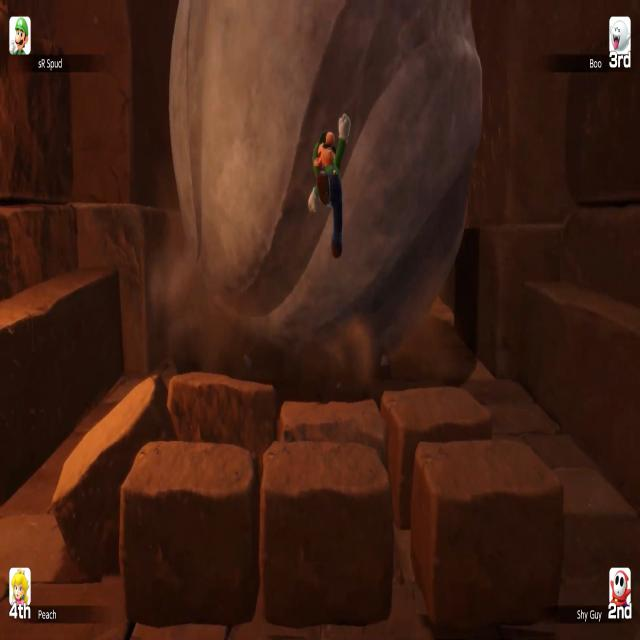Luigi: (309, 112, 351, 258)
obstacle: (412, 441, 563, 626), (120, 440, 260, 627), (51, 374, 180, 572), (261, 439, 393, 626), (380, 385, 493, 529), (168, 372, 274, 483), (277, 399, 389, 472)
rolling stone: (169, 0, 483, 383)
